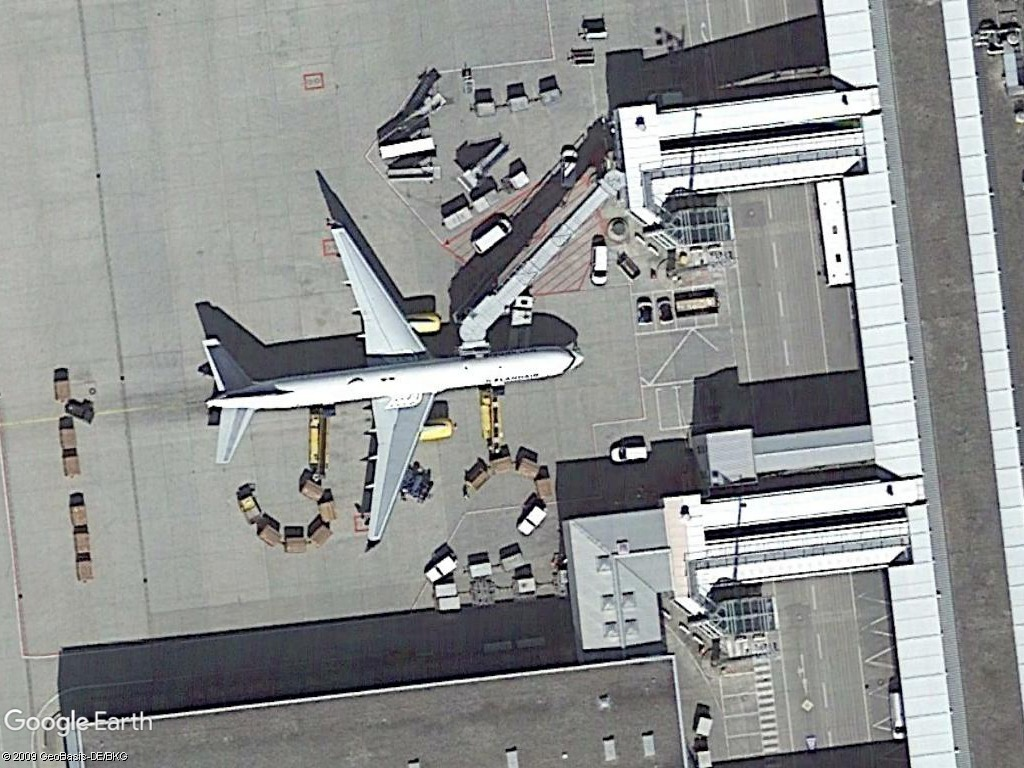airliner: (193, 223, 586, 555)
bus: (814, 178, 856, 293)
van: (469, 217, 516, 256), (588, 241, 612, 289), (605, 443, 650, 467)
